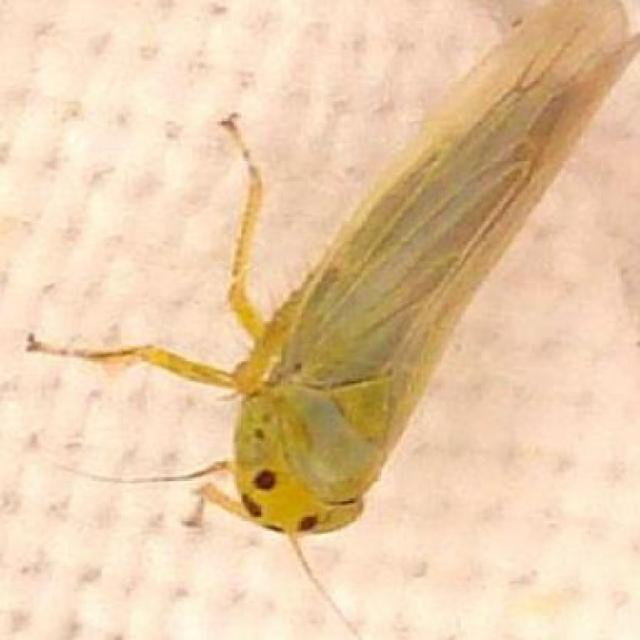green-leafhopper: (23, 0, 638, 536)
